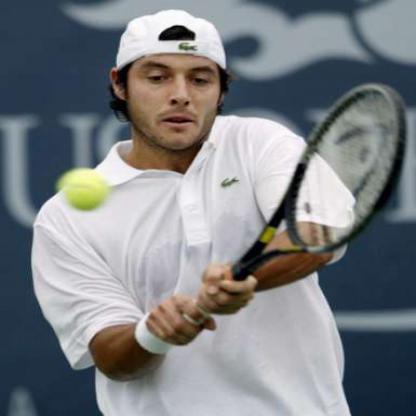face: (125, 13, 228, 152)
